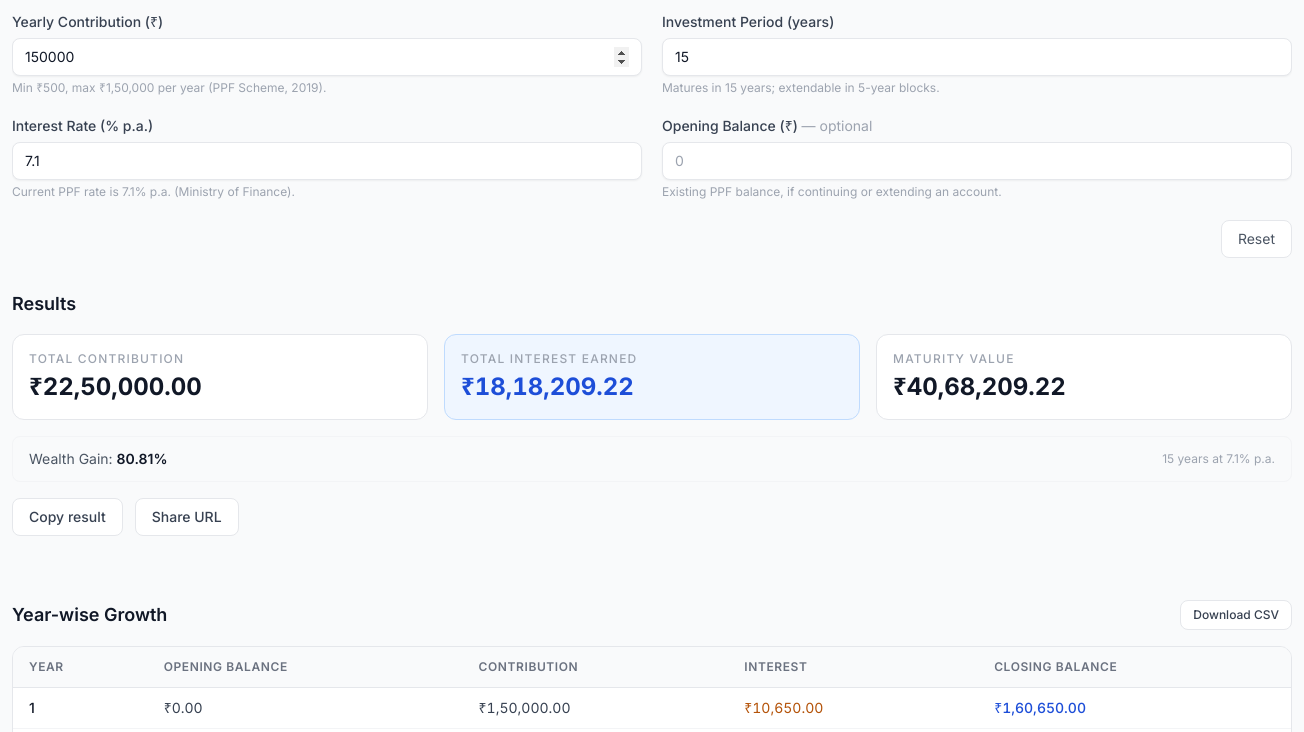
Test: PPFCalculator › shows error when contribution is below ₹500
Replace the text in the number field labelled "Yearly Contribution (₹)" with "100" at [327, 57], box [12, 38, 642, 76]
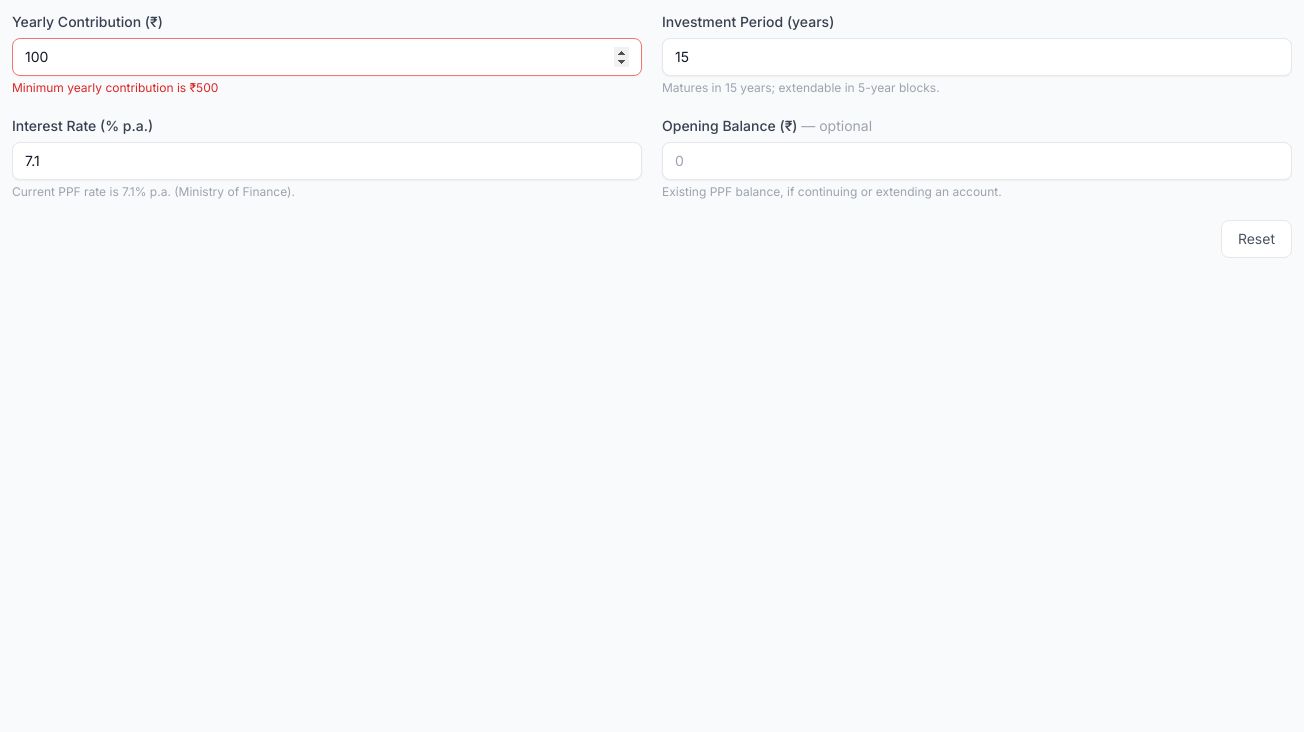
Now the text "Minimum yearly contribution is ₹500" is shown, box [12, 80, 218, 95]
